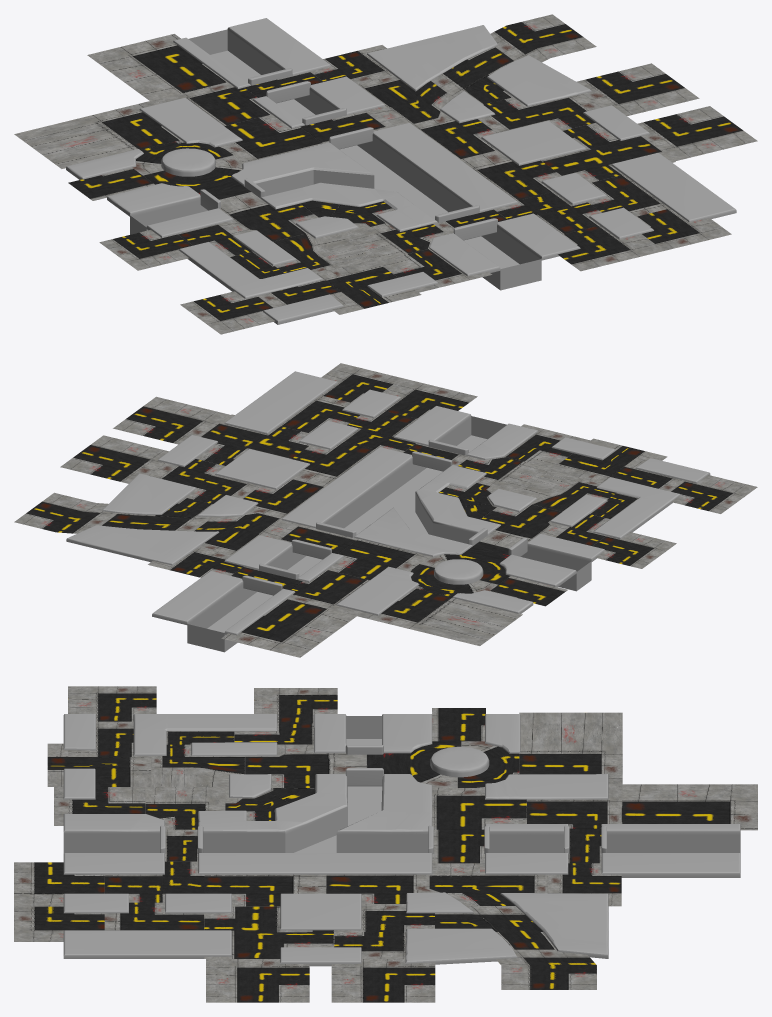
The model's file is NewLevel2wholeground.fbx.
3 views of the same model, one above another, from view 1: azimuth 30°, elevation 25°; view 2: azimuth 150°, elevation 25°; view 3: azimuth 270°, elevation 25° (orthographic). The views are drawn at different scales.
Parts seen in each view (by area): view 1: polySurface4_low, polySurface10_low, StreetBlock_Base34, StreetBlock_Base31, StreetBlock_Base33, StreetBlock_Base32, StreetBlock_Base17, StreetBlock_Base36, StreetBlock_Base25, StreetBlock_Base23, StreetBlock_Base18, StreetBlock_Base44 (+34 smaller); view 2: polySurface4_low, polySurface10_low, StreetBlock_Base34, StreetBlock_Base31, StreetBlock_Base33, StreetBlock_Base32, StreetBlock_Base17, StreetBlock_Base36, StreetBlock_Base25, StreetBlock_Base23, StreetBlock_Base18, StreetBlock_Base44 (+34 smaller); view 3: polySurface4_low, polySurface10_low, StreetBlock_Base34, StreetBlock_Base31, StreetBlock_Base33, StreetBlock_Base32, StreetBlock_Base17, StreetBlock_Base25, StreetBlock_Base36, StreetBlock_Base18, StreetBlock_Base23, StreetBlock_Base44 (+32 smaller).
Part boxes in pixels (<box>): polySurface4_low: <box>66,18,736,324</box>; polySurface10_low: <box>130,29,541,290</box>; StreetBlock_Base34: <box>14,98,180,168</box>; StreetBlock_Base31: <box>87,34,227,101</box>; StreetBlock_Base33: <box>637,106,757,161</box>; StreetBlock_Base32: <box>576,63,699,115</box>; StreetBlock_Base17: <box>490,14,596,62</box>; StreetBlock_Base36: <box>218,192,318,241</box>; StreetBlock_Base25: <box>219,114,322,163</box>; StreetBlock_Base23: <box>558,225,664,271</box>; StreetBlock_Base18: <box>460,150,561,200</box>; StreetBlock_Base44: <box>273,233,373,273</box>; polySurface4_low: <box>66,371,710,635</box>; polySurface10_low: <box>187,416,591,652</box>; StreetBlock_Base34: <box>347,588,522,645</box>; StreetBlock_Base31: <box>221,599,356,657</box>; StreetBlock_Base33: <box>113,396,230,444</box>; StreetBlock_Base32: <box>60,435,168,483</box>; StreetBlock_Base17: <box>14,492,118,533</box>; StreetBlock_Base36: <box>480,504,569,548</box>; StreetBlock_Base25: <box>327,539,432,580</box>; StreetBlock_Base23: <box>382,378,477,418</box>; StreetBlock_Base18: <box>291,441,375,486</box>; StreetBlock_Base44: <box>518,470,615,511</box>; polySurface4_low: <box>63,714,740,966</box>; polySurface10_low: <box>63,716,740,877</box>; StreetBlock_Base34: <box>519,712,622,790</box>; StreetBlock_Base31: <box>621,784,757,830</box>; StreetBlock_Base33: <box>206,959,309,1002</box>; StreetBlock_Base32: <box>331,959,435,1002</box>; StreetBlock_Base17: <box>496,949,596,989</box>; StreetBlock_Base25: <box>432,786,526,829</box>; StreetBlock_Base36: <box>245,744,366,787</box>; StreetBlock_Base18: <box>204,874,326,906</box>; StreetBlock_Base23: <box>14,862,104,906</box>; StreetBlock_Base44: <box>151,744,245,786</box>.
Bounding box in the file's own units: 21.59 × 1.01 × 21.47.
